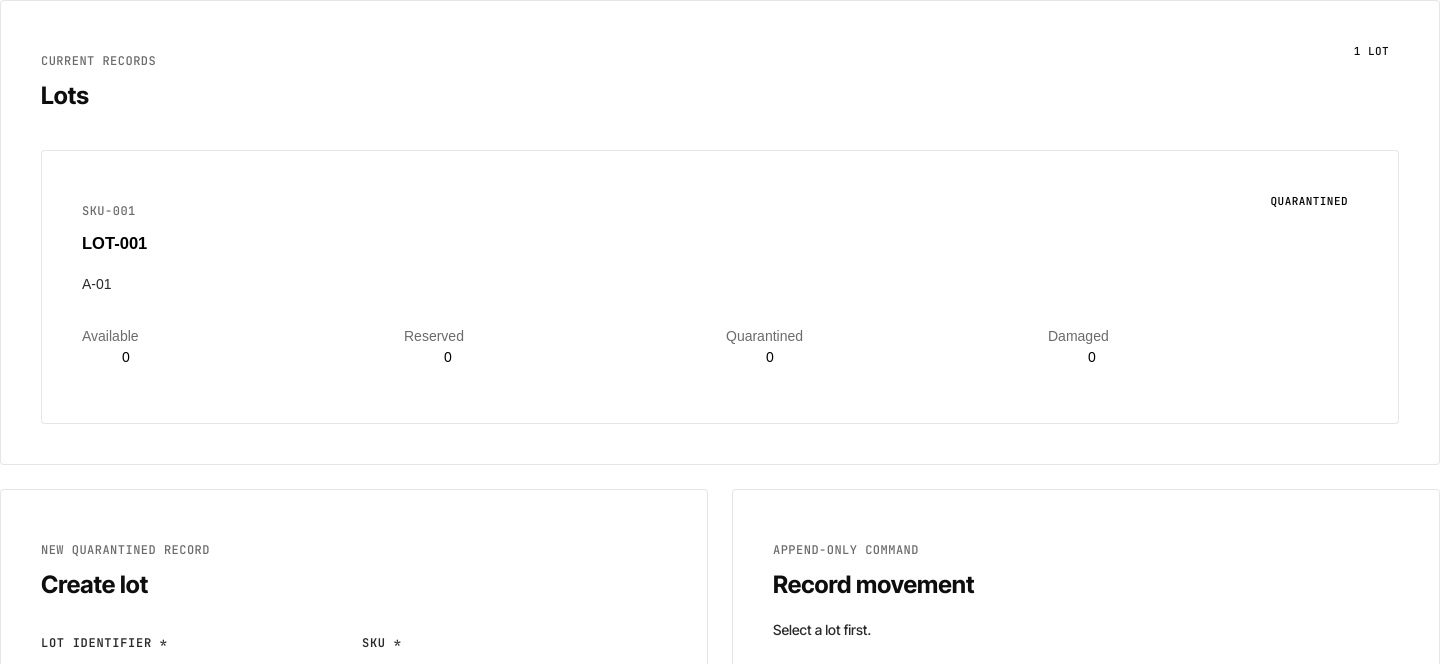
it: Website 4 inventory form completion › retains the movement form across await, resets it, reports success, and reloads
This screenshot has width=1440, height=664.
Click the list item.
click(720, 408)  # box [41,150,1399,424]
(page scrolled)
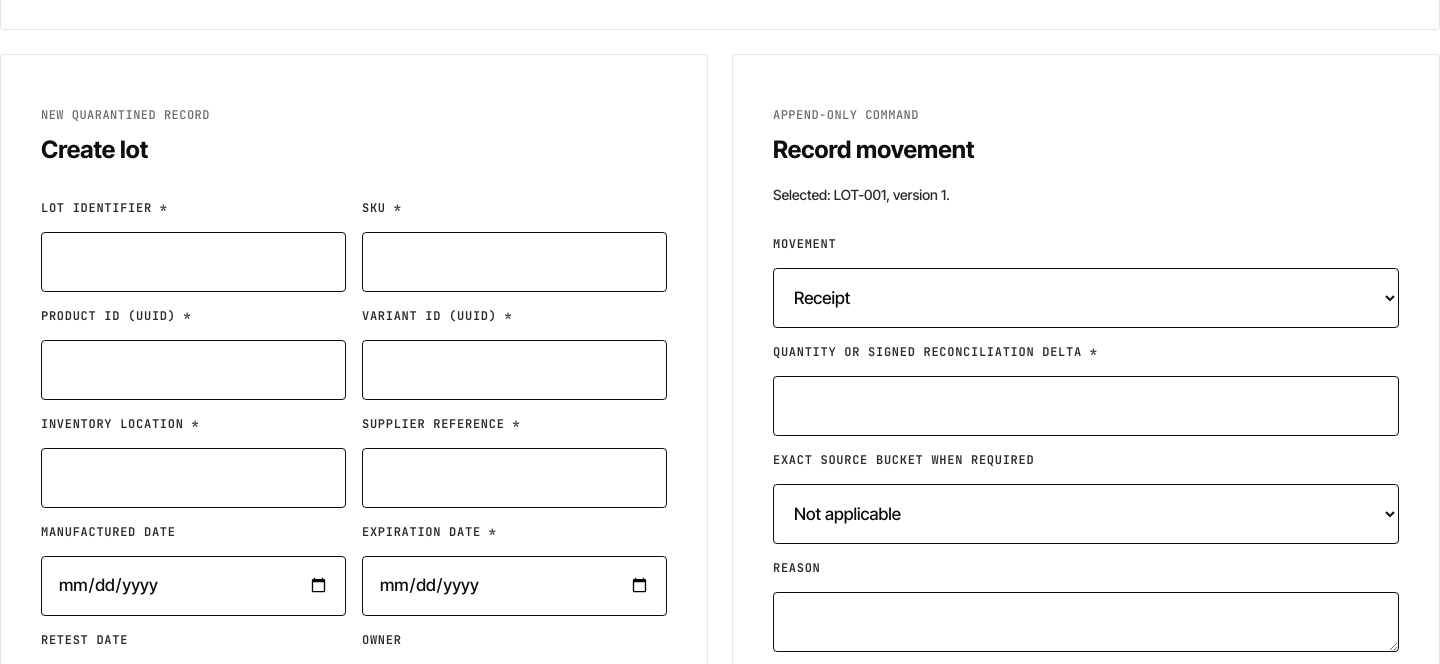
Type "10" into the number field labelled "Quantity or signed reconciliation delta *".
click(1086, 406); type("10")  # box [773,376,1399,436]
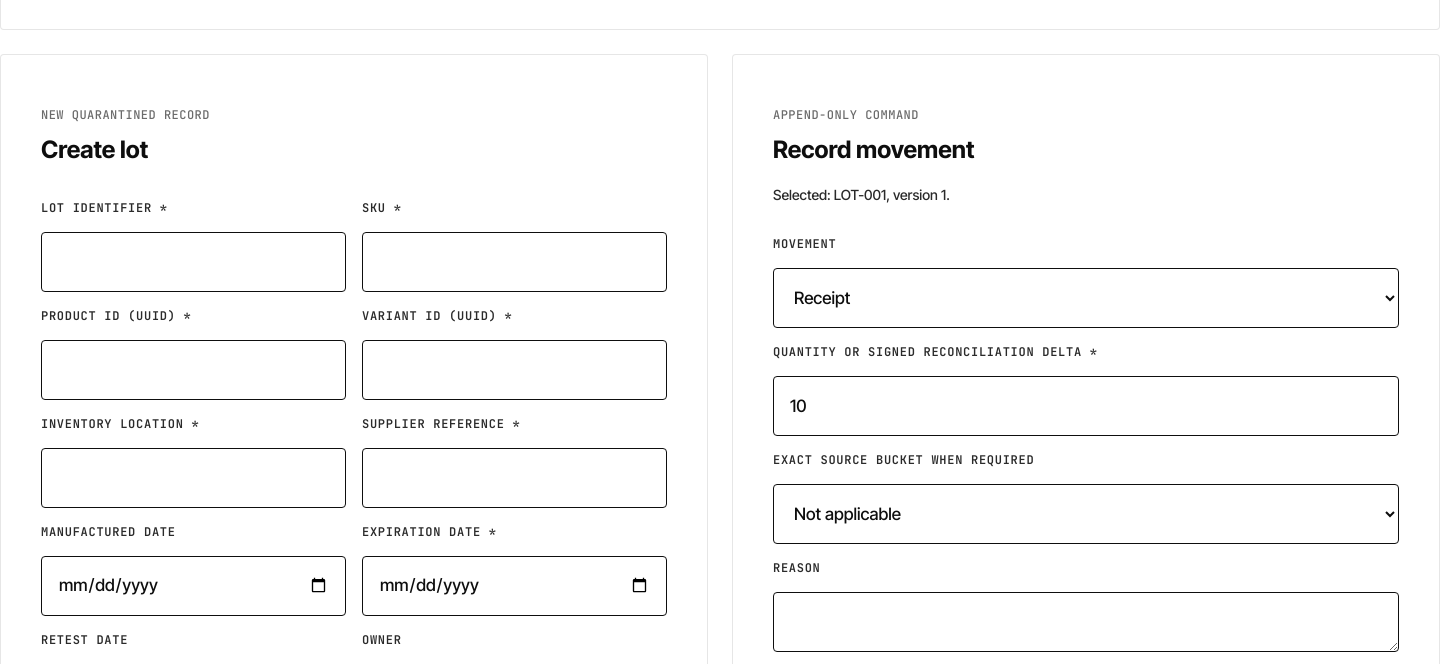
Type "Verified receipt" into the text box labelled "Reason".
click(1086, 622); type("Verified receipt")  # box [773,592,1399,652]
(page scrolled)
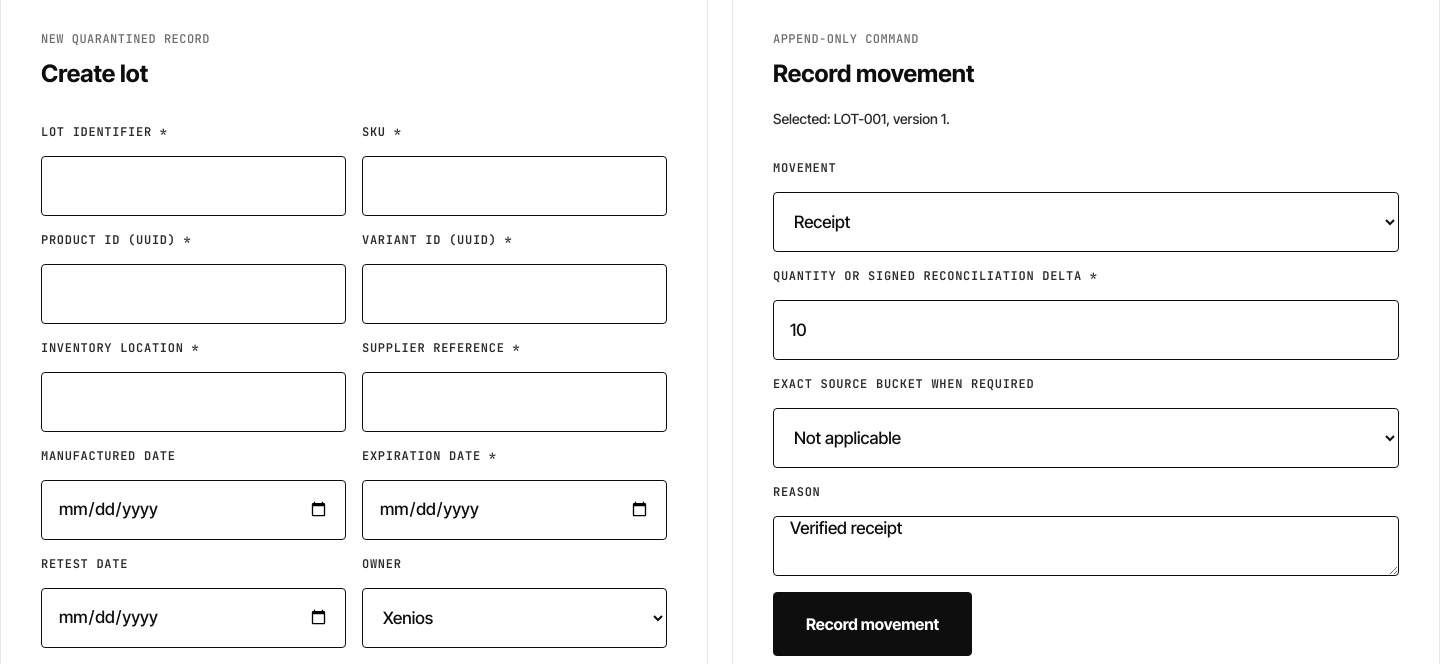
Submit the form that starts with "Append-only command"
(page scrolled)
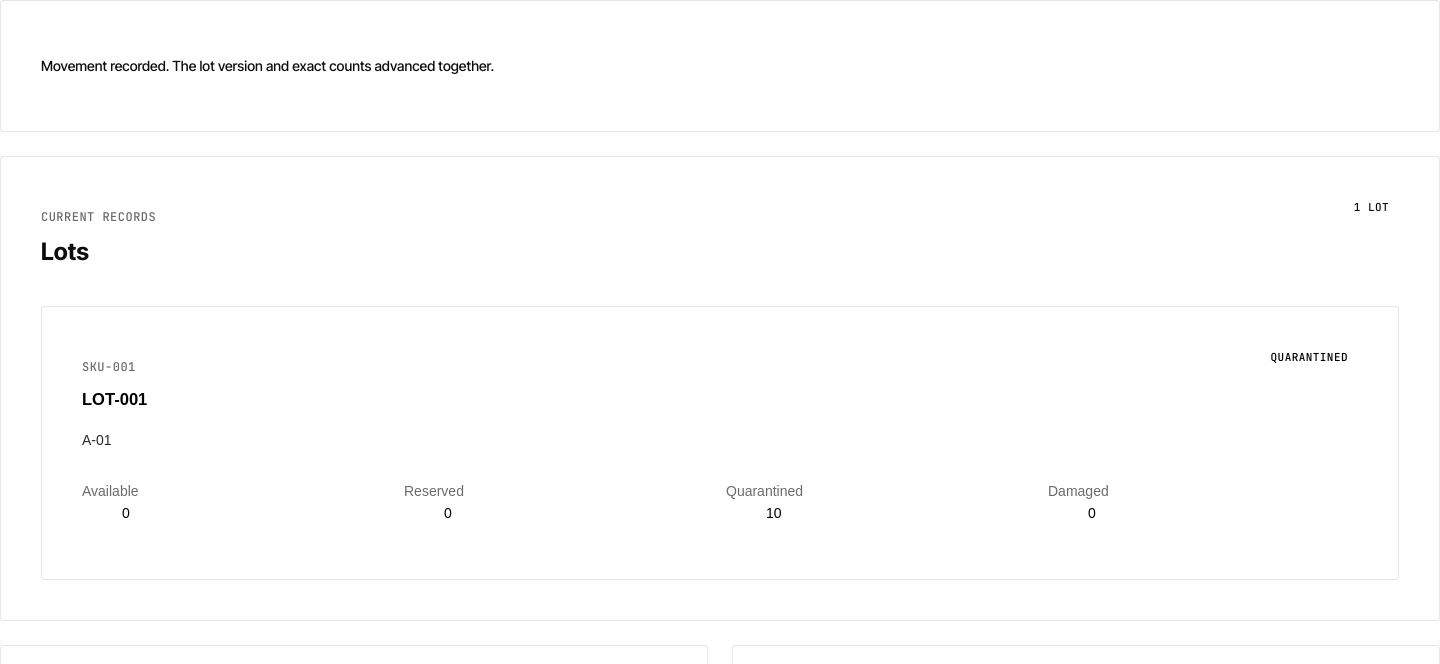
Expected: the text "Movement recorded" is shown, [41,57,494,74]
